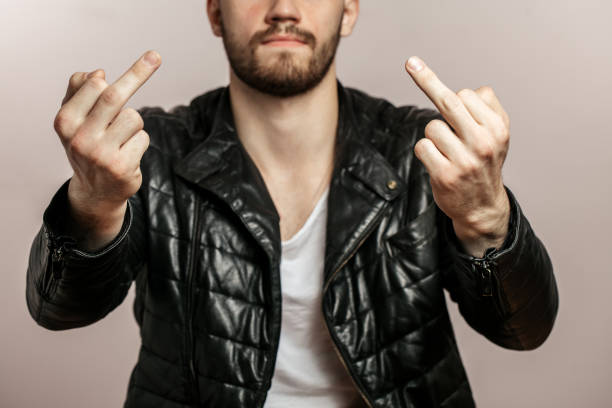insulting_gesture: (406, 54, 513, 219), (56, 49, 163, 197)
